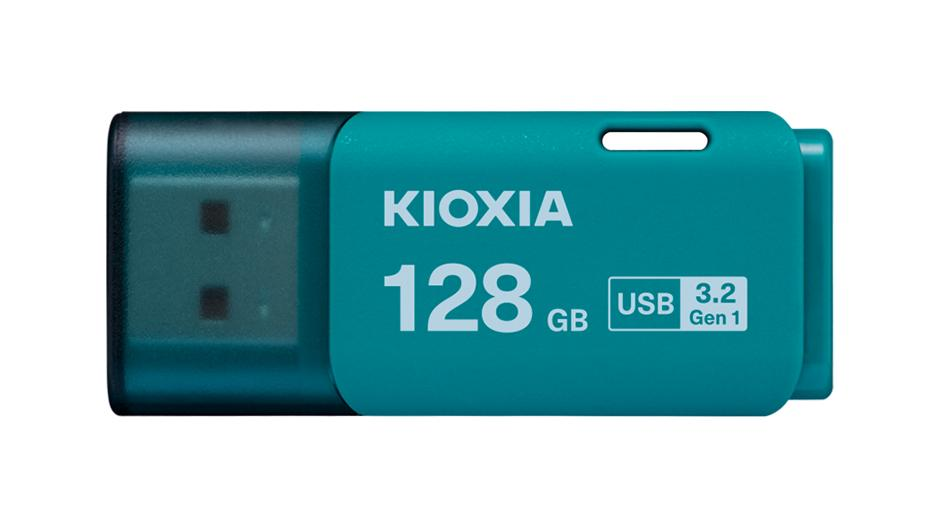USB Flash Drive: (103, 109, 835, 419)
